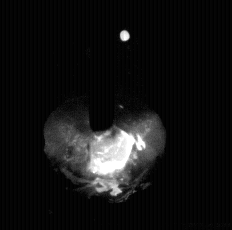arame: (90, 0, 115, 133)
poca: (44, 0, 166, 230)
